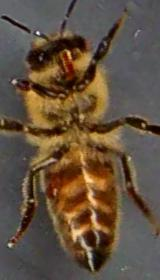varroa_mite: (38, 170, 72, 209)
